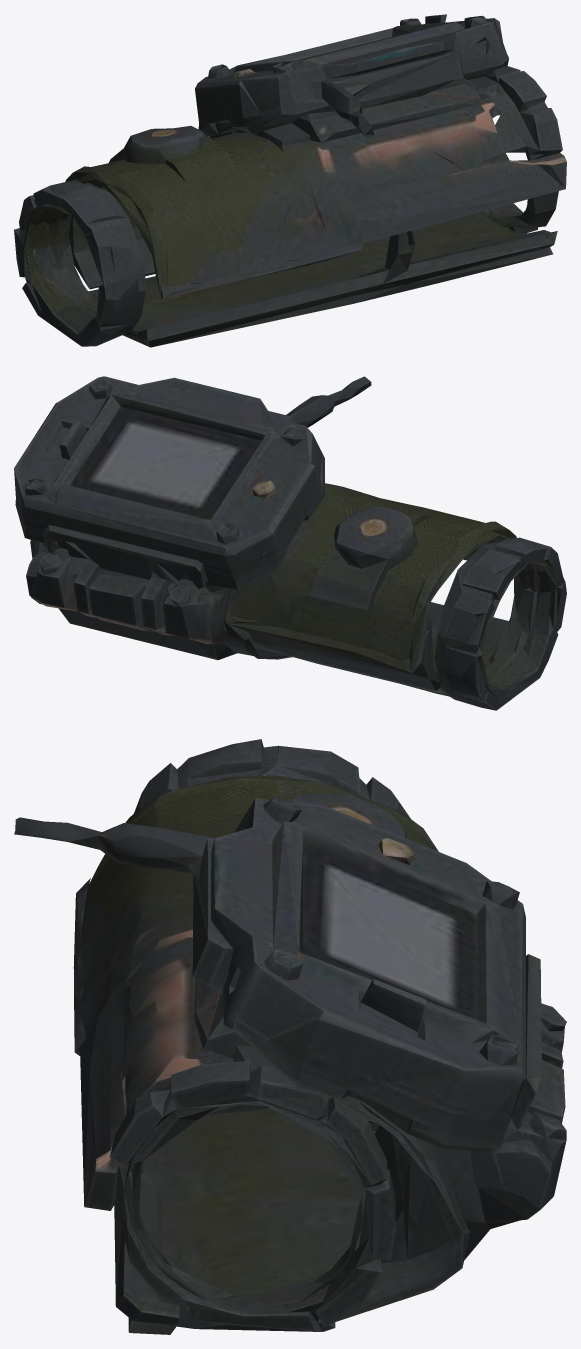
File: scanner.glb
3 renders of one model, top to bottom at view 1: azimuth 30°, elevation 25°; view 2: azimuth 150°, elevation 25°; view 3: azimuth 270°, elevation 25°, orthographic. The views are drawn at different scales.
Bounding box in the file's own units: 1.9 × 0.8572 × 1.19.
1 material, 1 textured.
